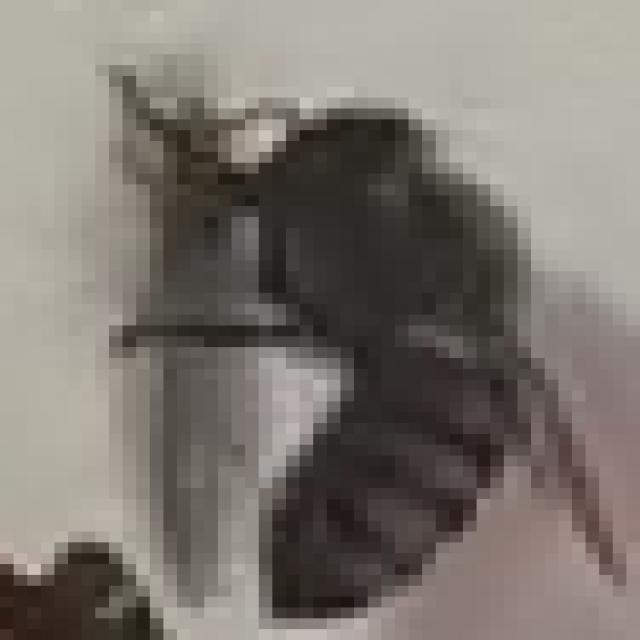honeybee: (108, 71, 623, 607)
